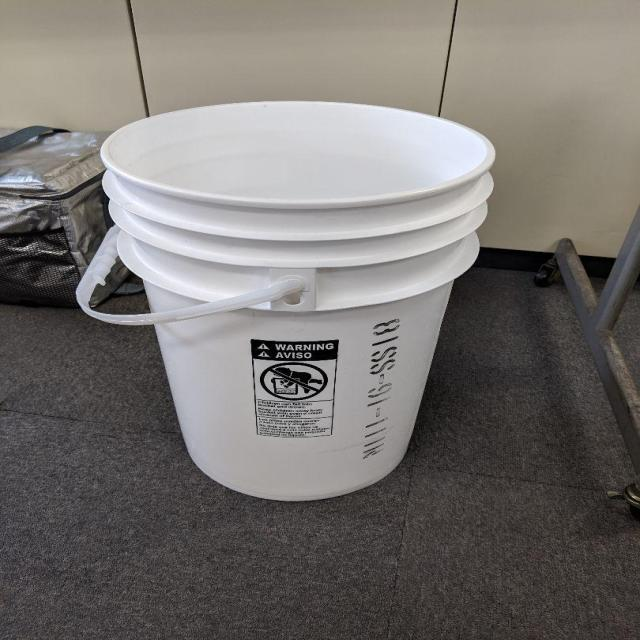plastic: (65, 95, 496, 505)
